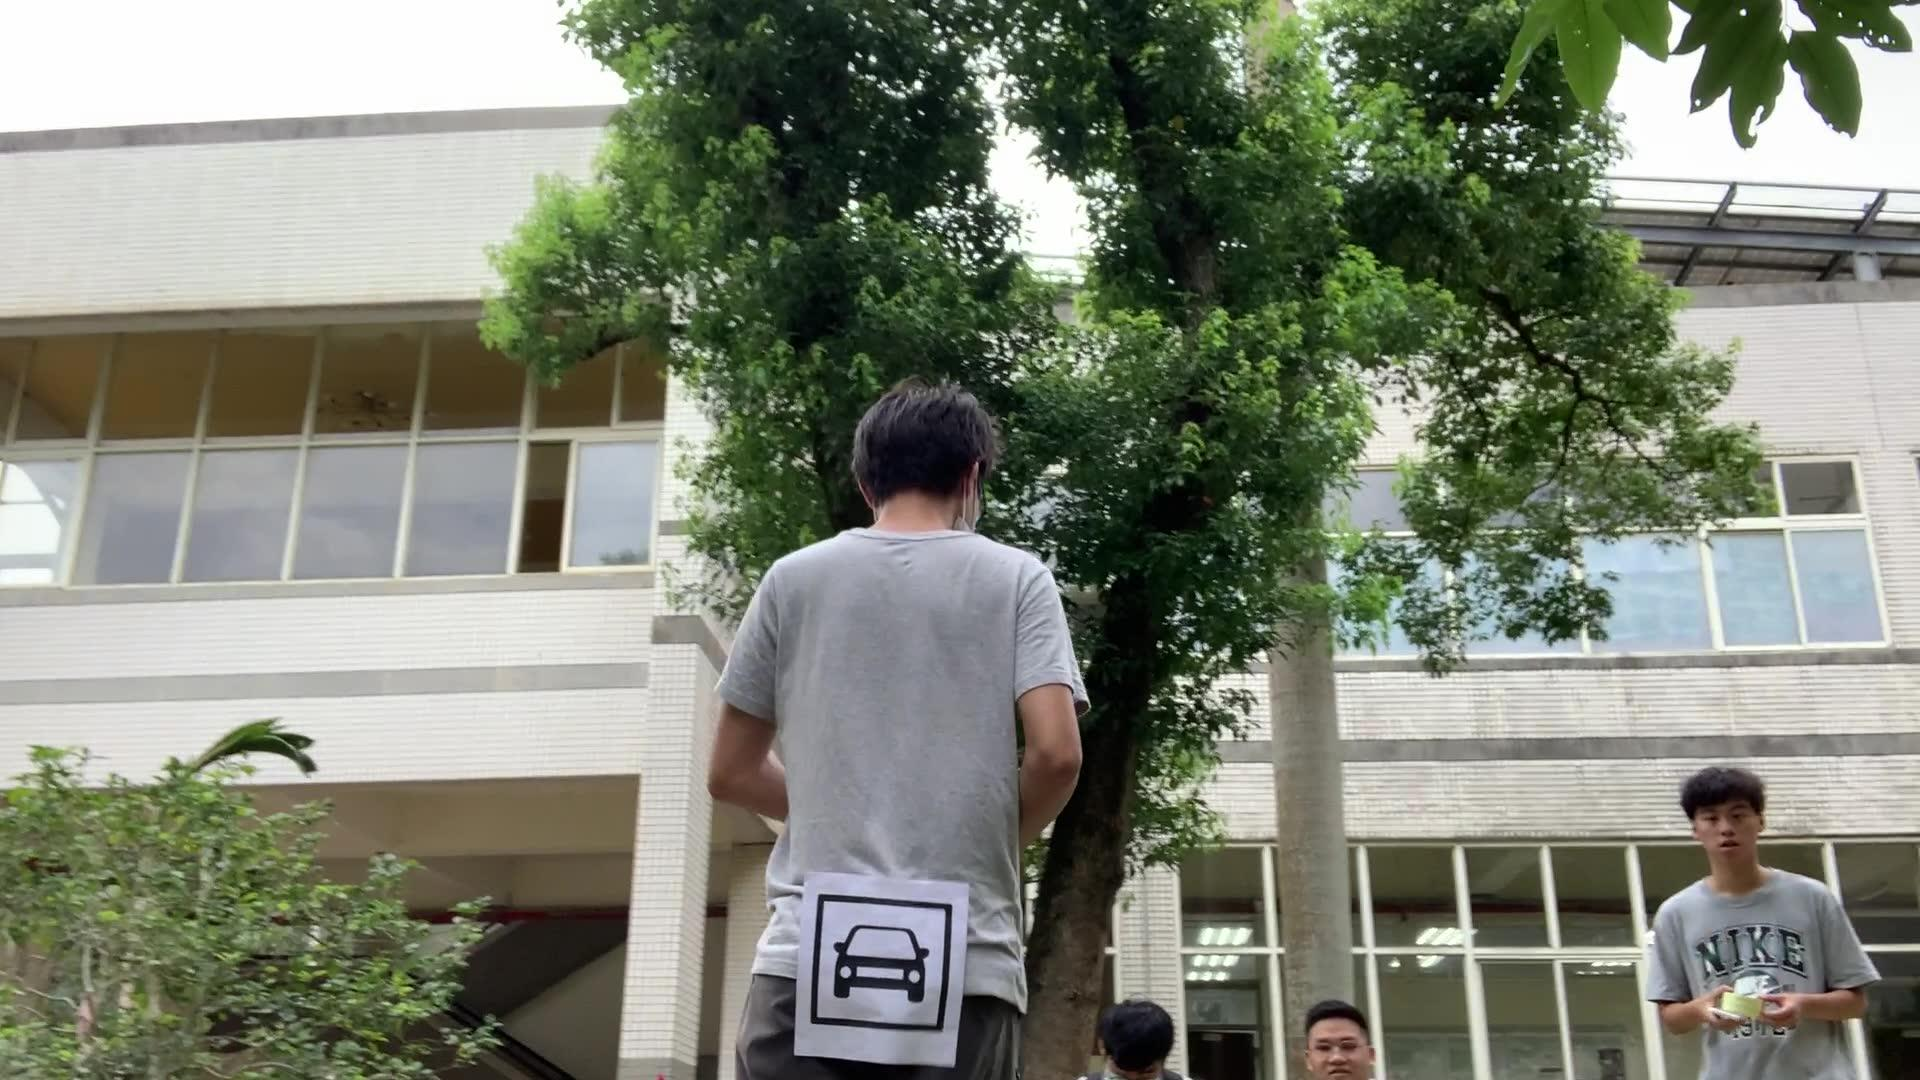car_img: (810, 891, 953, 1033)
